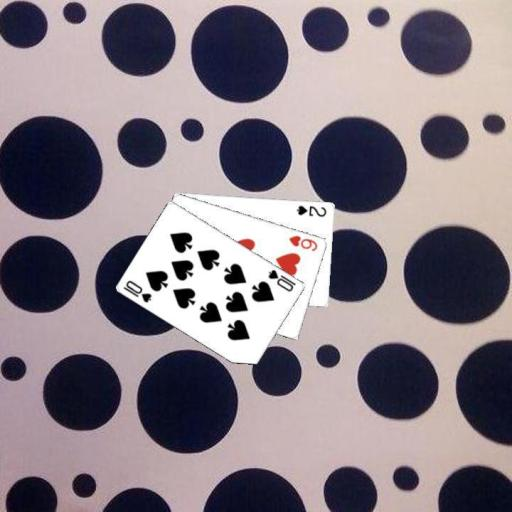card-corner: (120, 276, 154, 304), (265, 266, 298, 293), (286, 232, 319, 252), (294, 202, 328, 218)
